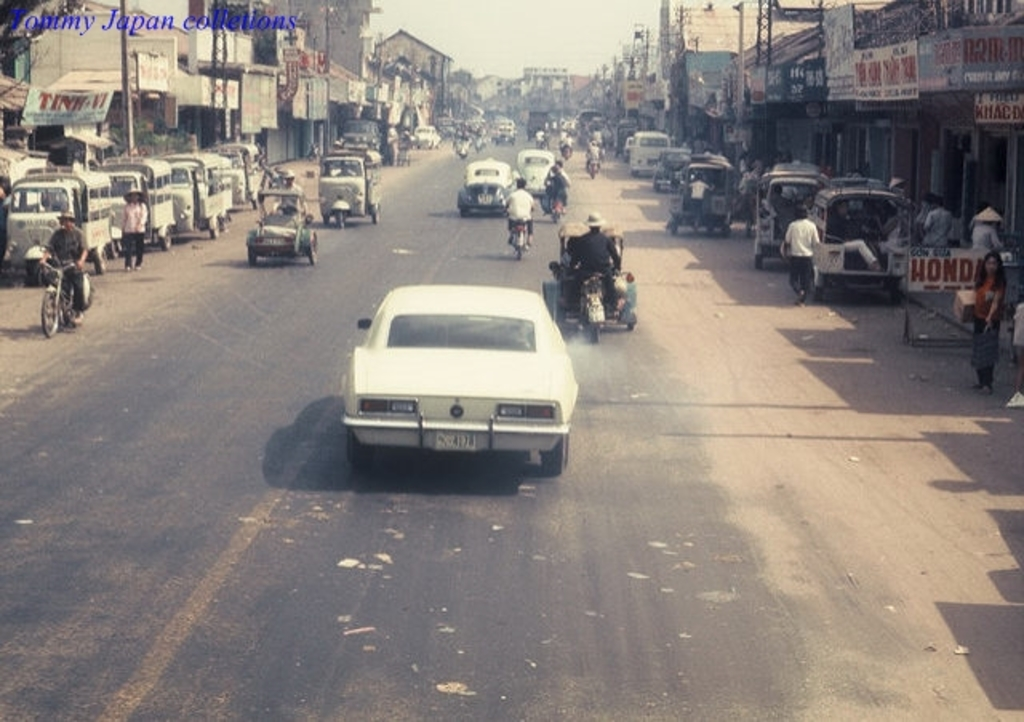mobil: (348, 278, 581, 461)
motor: (23, 246, 99, 342), (501, 193, 541, 257)
